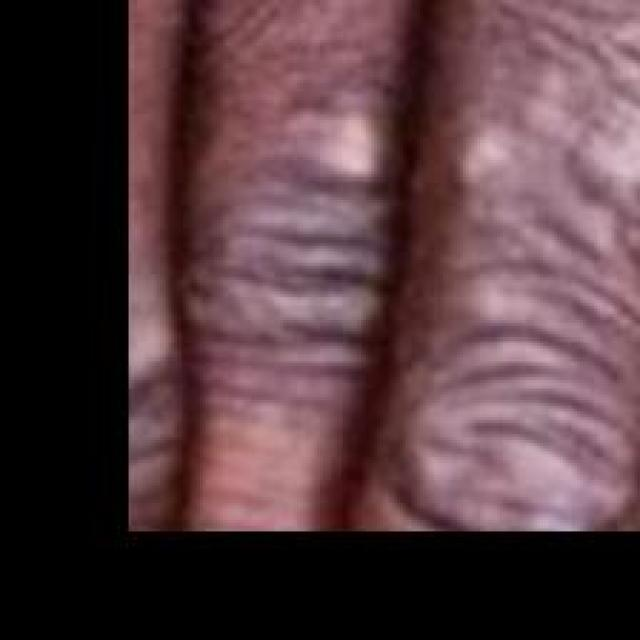monkeypox: (114, 0, 640, 600)
